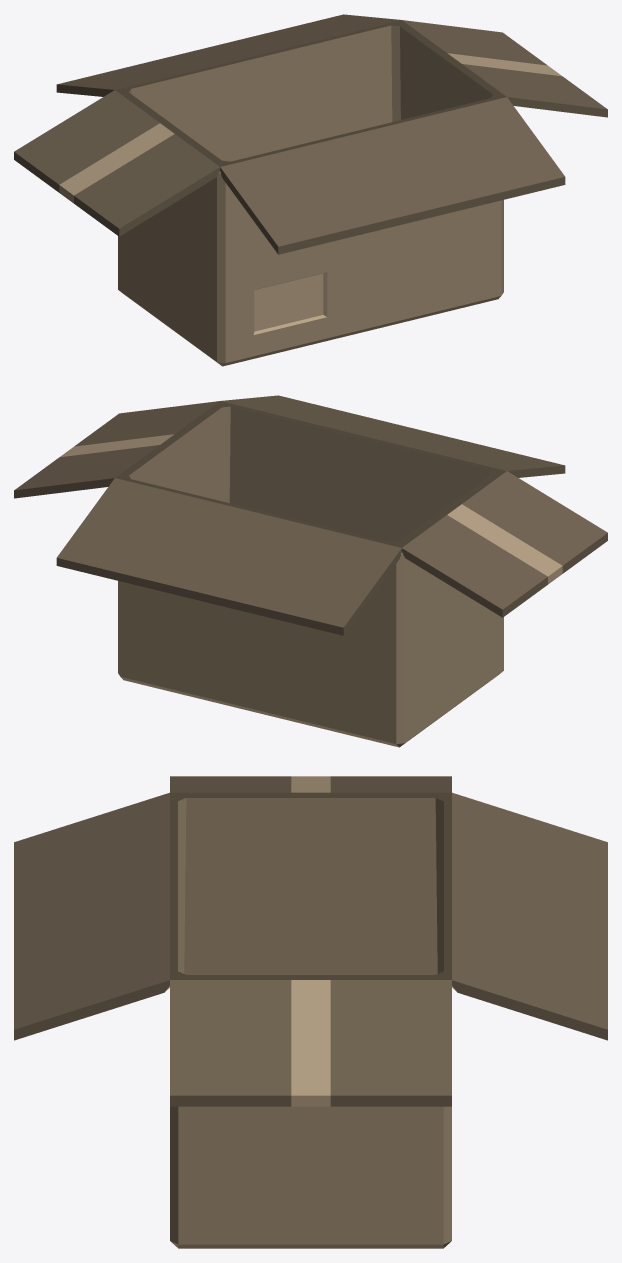
The model's file is Bos_Open.fbx.
3 renders of one model, top to bottom at view 1: azimuth 30°, elevation 25°; view 2: azimuth 150°, elevation 25°; view 3: azimuth 270°, elevation 25°, orthographic. The views are drawn at different scales.
Parts seen in each view (by area): view 1: pCube1; view 2: pCube1; view 3: pCube1.
Part boxes in pixels (box(x1,y1,x2,y2)): pCube1: box(14, 14, 607, 366); pCube1: box(14, 395, 607, 747); pCube1: box(14, 776, 607, 1248).
Bounding box in the file's own units: 12.36 × 4.91 × 9.71.
